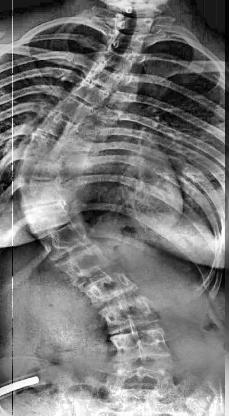Vertebrae: (100, 294, 162, 334), (82, 266, 140, 308), (108, 326, 172, 364), (55, 244, 115, 284), (36, 223, 92, 263), (23, 202, 72, 235), (19, 178, 63, 209), (36, 111, 80, 141), (109, 10, 155, 38), (24, 130, 68, 158), (18, 155, 62, 183), (105, 29, 147, 57), (94, 46, 136, 74), (84, 63, 126, 91), (54, 95, 94, 124), (71, 79, 109, 107)
